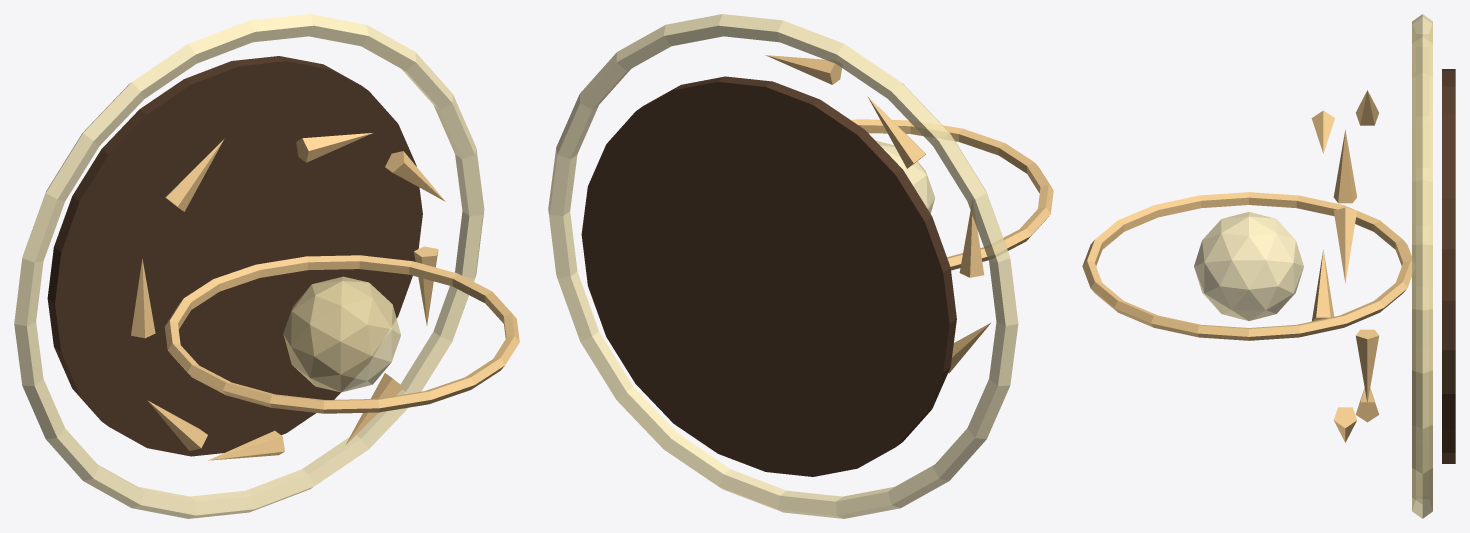
The model's file is 03_boss_magic_phase_module.glb.
3 renders of one model, left to right at view 1: azimuth 30°, elevation 25°; view 2: azimuth 150°, elevation 25°; view 3: azimuth 270°, elevation 25°, orthographic. The views are drawn at different scales.
Parts seen in each view (by area): view 1: boss_phase_disc, boss_phase_ring_outer, boss_phase_ring_vertical, boss_weakpoint_core, phase_shard_6, phase_shard_2, phase_shard_3, phase_shard_4, phase_shard_1, phase_shard_5, phase_shard_0, phase_shard_7; view 2: boss_phase_disc, boss_phase_ring_outer, boss_phase_ring_vertical, phase_shard_2, phase_shard_3, boss_weakpoint_core, phase_shard_4; view 3: boss_phase_ring_outer, boss_phase_ring_vertical, boss_weakpoint_core, boss_phase_disc, phase_shard_0, phase_shard_4, phase_shard_1, phase_shard_5, phase_shard_2, phase_shard_7, phase_shard_3, phase_shard_6.
Boxes of the visible parts, box(x1,y1,x2,y2) form: boss_phase_disc: box(47, 56, 422, 456); boss_phase_ring_outer: box(14, 14, 484, 518); boss_phase_ring_vertical: box(164, 255, 519, 413); boss_weakpoint_core: box(283, 276, 400, 392); phase_shard_6: box(208, 430, 284, 460); phase_shard_2: box(296, 133, 372, 162); phase_shard_3: box(165, 139, 223, 211); phase_shard_4: box(131, 259, 155, 338); phase_shard_1: box(385, 151, 445, 201); phase_shard_5: box(147, 400, 207, 450); phase_shard_0: box(414, 246, 438, 325); phase_shard_7: box(345, 373, 403, 444); boss_phase_disc: box(581, 76, 956, 476); boss_phase_ring_outer: box(548, 14, 1018, 518); boss_phase_ring_vertical: box(851, 119, 1053, 270); phase_shard_2: box(765, 55, 841, 84); phase_shard_3: box(867, 96, 925, 168); boss_weakpoint_core: box(876, 141, 934, 213); phase_shard_4: box(959, 202, 984, 277); boss_phase_ring_outer: box(1412, 14, 1432, 518); boss_phase_ring_vertical: box(1082, 192, 1414, 340); boss_weakpoint_core: box(1194, 212, 1303, 320); boss_phase_disc: box(1442, 69, 1455, 463); phase_shard_0: box(1355, 329, 1379, 403); phase_shard_4: box(1333, 129, 1356, 203); phase_shard_1: box(1333, 207, 1356, 283); phase_shard_5: box(1311, 249, 1334, 321); phase_shard_2: box(1311, 110, 1334, 153); phase_shard_7: box(1333, 407, 1356, 442); phase_shard_3: box(1355, 90, 1378, 125); phase_shard_6: box(1355, 388, 1379, 422).
Bounding box in the file's own units: 1.84 × 1.84 × 1.36.
